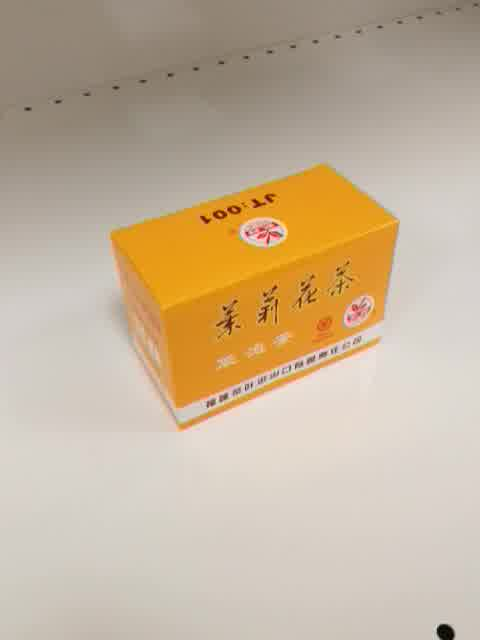jasminetea: (110, 163, 401, 431)
